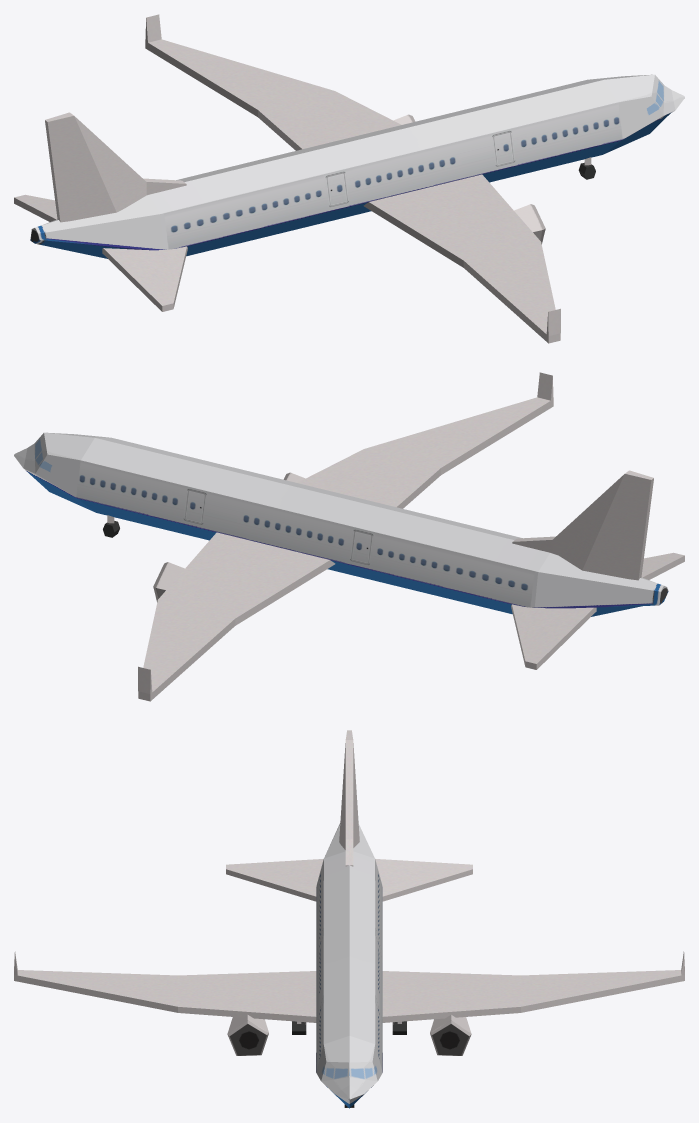
The model's file is AviaoLOD0.fbx.
The picture shows the model from 3 angles, top to bottom: view 1: azimuth 30°, elevation 25°; view 2: azimuth 150°, elevation 25°; view 3: azimuth 270°, elevation 25°; orthographic projection. The views are drawn at different scales.
Visible parts, largest first — view 1: aviaoLOD0; view 2: aviaoLOD0; view 3: aviaoLOD0.
Boxes of the visible parts, bbox=[...] form: aviaoLOD0: bbox=[14, 14, 684, 343]; aviaoLOD0: bbox=[14, 372, 684, 701]; aviaoLOD0: bbox=[14, 730, 684, 1108].
Bounding box in the file's own units: 2436 × 676 × 2619.
